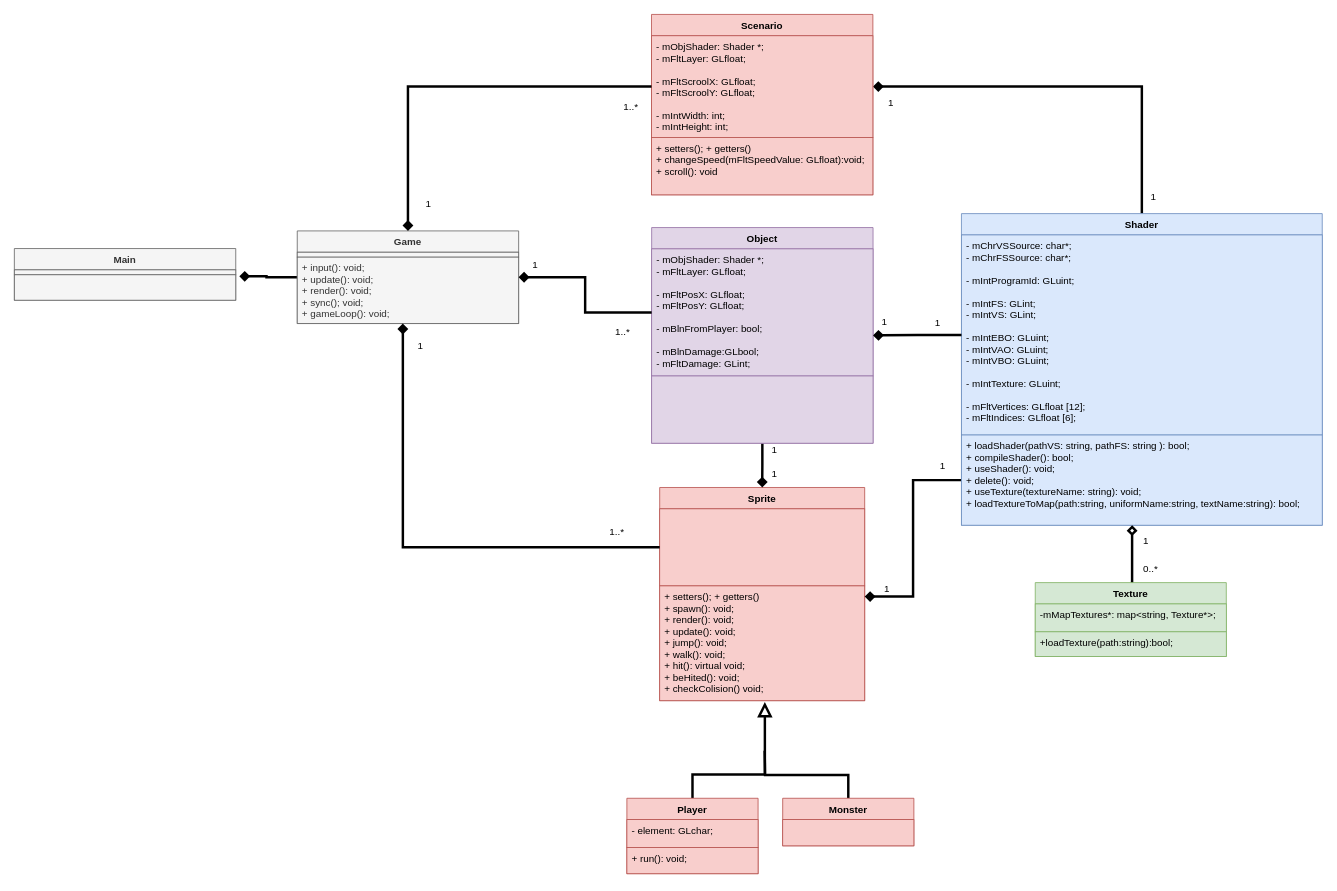
This 1337x891 diagram has some shape labels left out. Each missing label, with the centre of its shape:
+ huntPlayer(): void;: (x=848, y=832)
+ setters(); + getters(); + spawn(): bool; + disappear(): void;: (x=762, y=409)
- mIntLife: GLint; - mIntDamage: GLint; - mIntEnergy: GLint;: (x=762, y=547)
